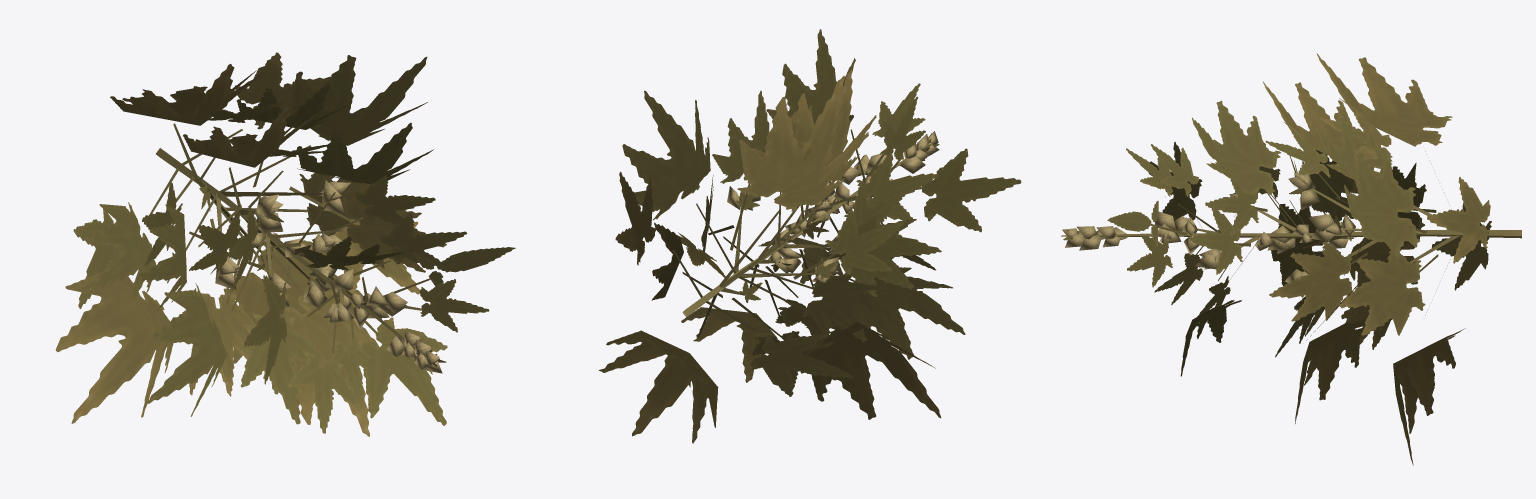
Rendered from p_male_tree_ripe_c2_cards.obj.
3 renders of one model, left to right at view 1: azimuth 30°, elevation 25°; view 2: azimuth 150°, elevation 25°; view 3: azimuth 270°, elevation 25°, orthographic. The views are drawn at different scales.
Bounding box in the file's own units: 1.38 × 1.38 × 1.5.
Materials: 1 (1 with a texture image).
